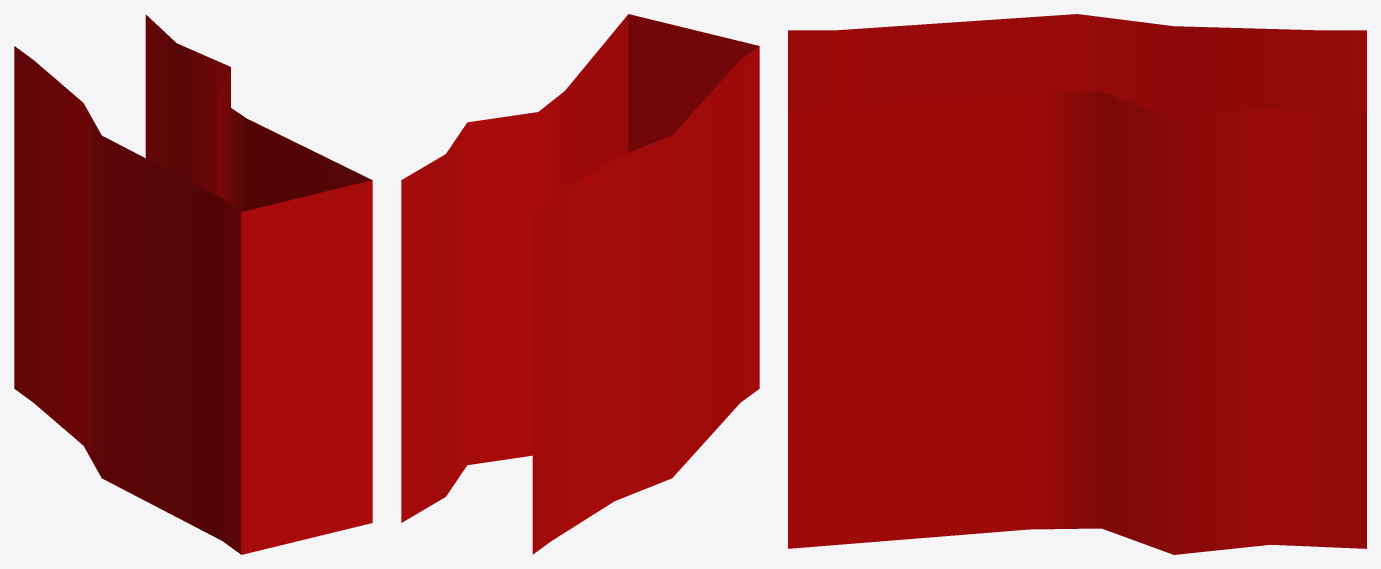
3 views of the same model, side by side, from view 1: azimuth 30°, elevation 25°; view 2: azimuth 150°, elevation 25°; view 3: azimuth 270°, elevation 25° (orthographic). The views are drawn at different scales.
Parts seen in each view (by area): view 1: BG001_1013_00_c02; view 2: BG001_1013_00_c02; view 3: BG001_1013_00_c02.
Boxes of the visible parts, <box> form: BG001_1013_00_c02: <box>14,14,372,554</box>; BG001_1013_00_c02: <box>401,14,759,554</box>; BG001_1013_00_c02: <box>788,14,1366,554</box>.
Size of the model in its own units: 510 by 1000 by 1200.
